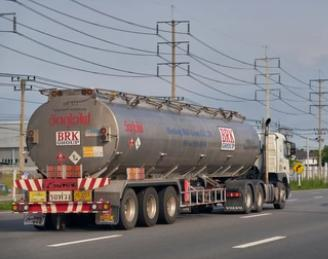vehicle: (12, 88, 296, 230)
